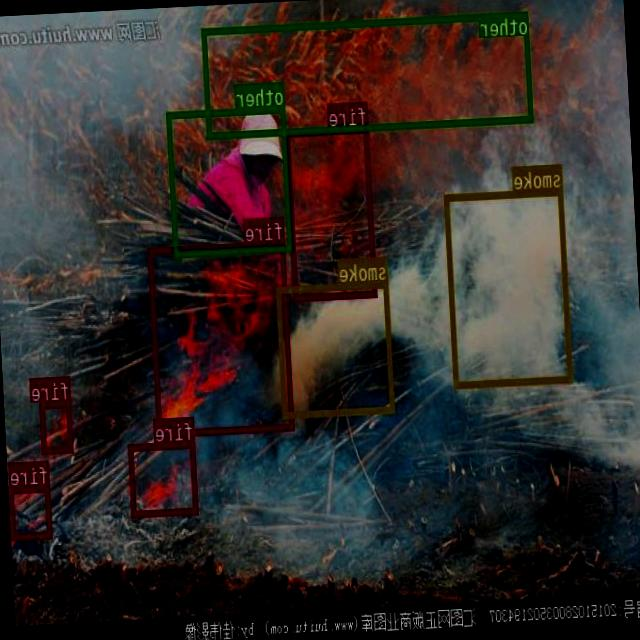fire: (149, 240, 296, 436), (286, 125, 378, 300), (129, 440, 199, 516), (10, 484, 53, 538), (40, 400, 74, 453)
smoke: (444, 188, 574, 386), (276, 280, 396, 418)
